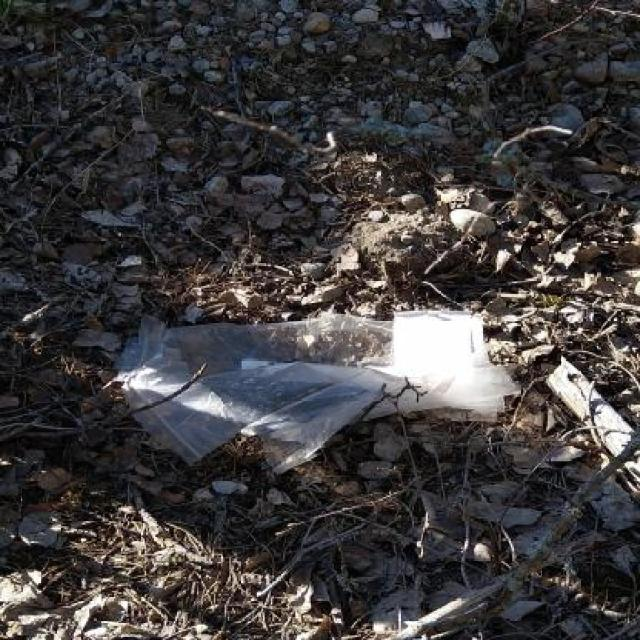plastic: (120, 310, 514, 470)
